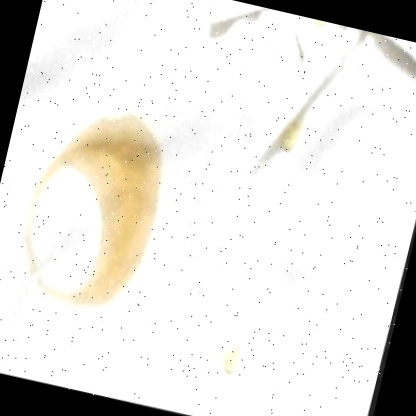coffee: (74, 191, 160, 307), (70, 116, 170, 201)
